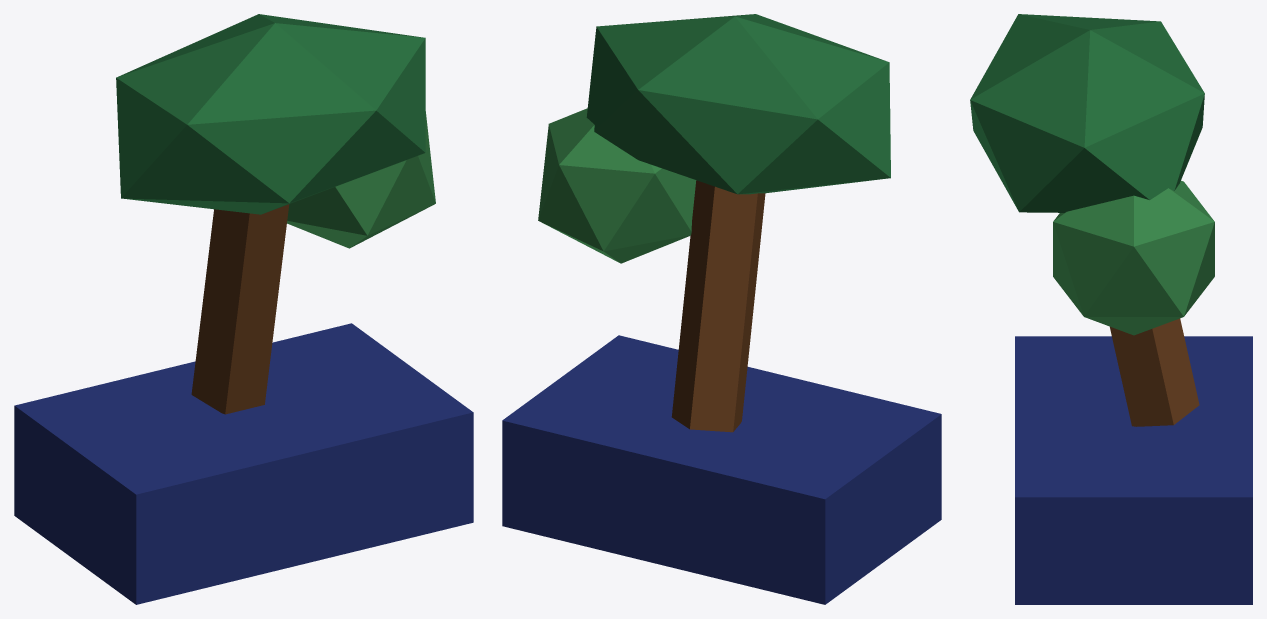
File: bonsai.fbx
The picture shows the model from 3 angles, left to right: view 1: azimuth 30°, elevation 25°; view 2: azimuth 150°, elevation 25°; view 3: azimuth 270°, elevation 25°; orthographic projection. The views are drawn at different scales.
Visible parts, largest first — view 1: bonsai; view 2: bonsai; view 3: bonsai.
Boxes of the visible parts, x1,y1,x2,y2 form: bonsai: (14, 14, 473, 604); bonsai: (502, 14, 941, 604); bonsai: (970, 14, 1252, 604).
Bounding box in the file's own units: 0.8289 × 1.16 × 0.5944.
